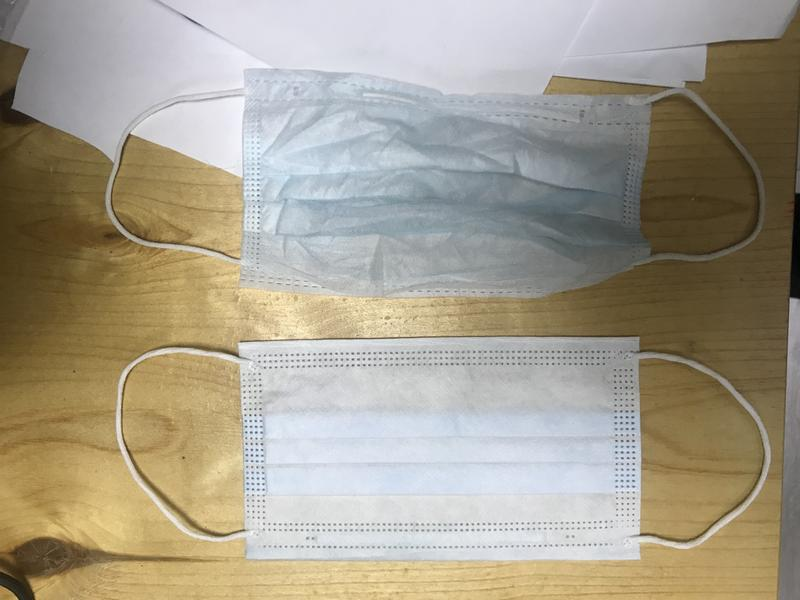medical_mask: (105, 68, 764, 297), (116, 336, 772, 560)
